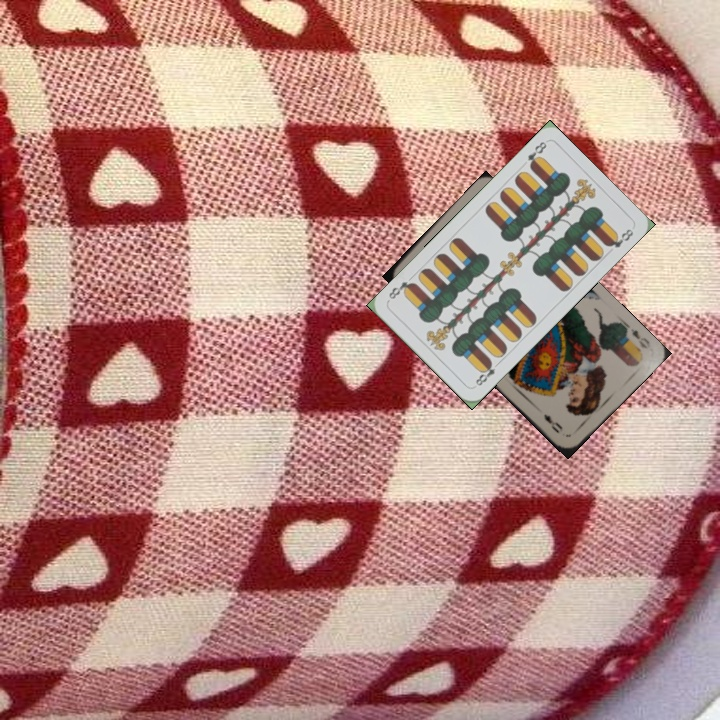E8: (517, 137, 549, 171), (471, 357, 503, 388)
EO: (620, 319, 653, 354)
